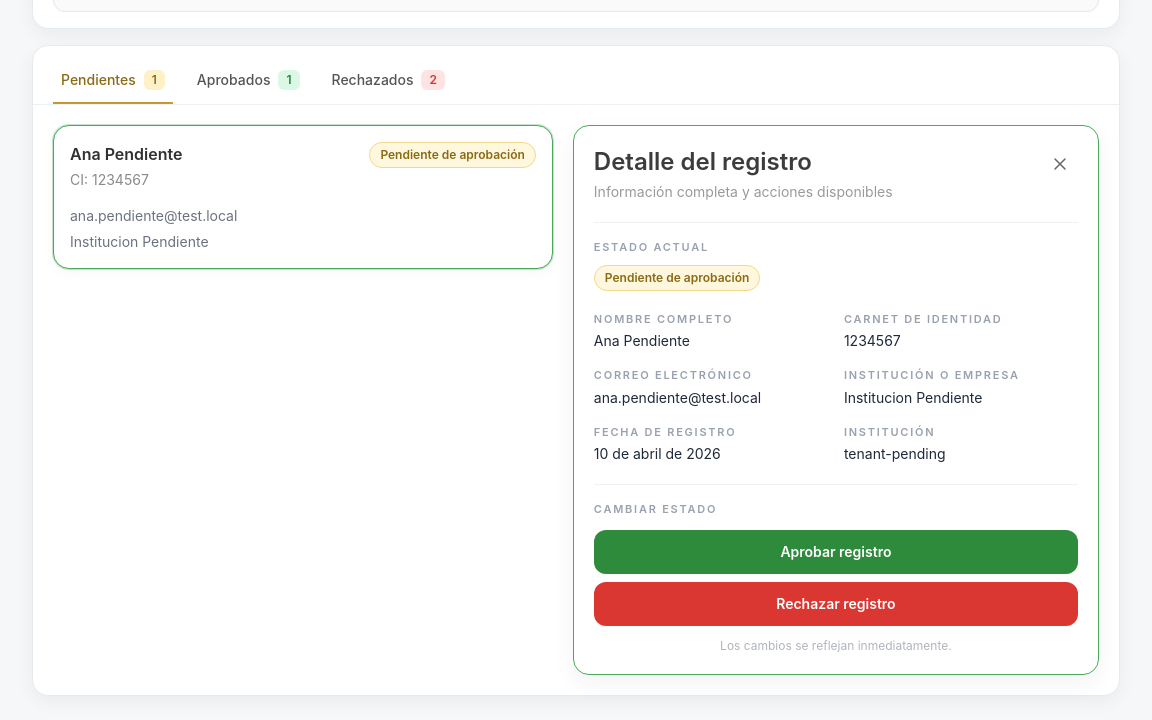
MX-02 | Gestión de instituciones, administradores y wallets | Frontend Admin | Aprobaciones › [MX-02][D-NEW-007][INTEGRACION] rechaza una solicitud de institución nueva sin aprobarla
(page scrolled)
Expected: the button "Ana Pendiente" is shown, left=53, top=125, right=553, bottom=269
Click the button "Rechazar registro": (836, 604) left=594, top=582, right=1078, bottom=626
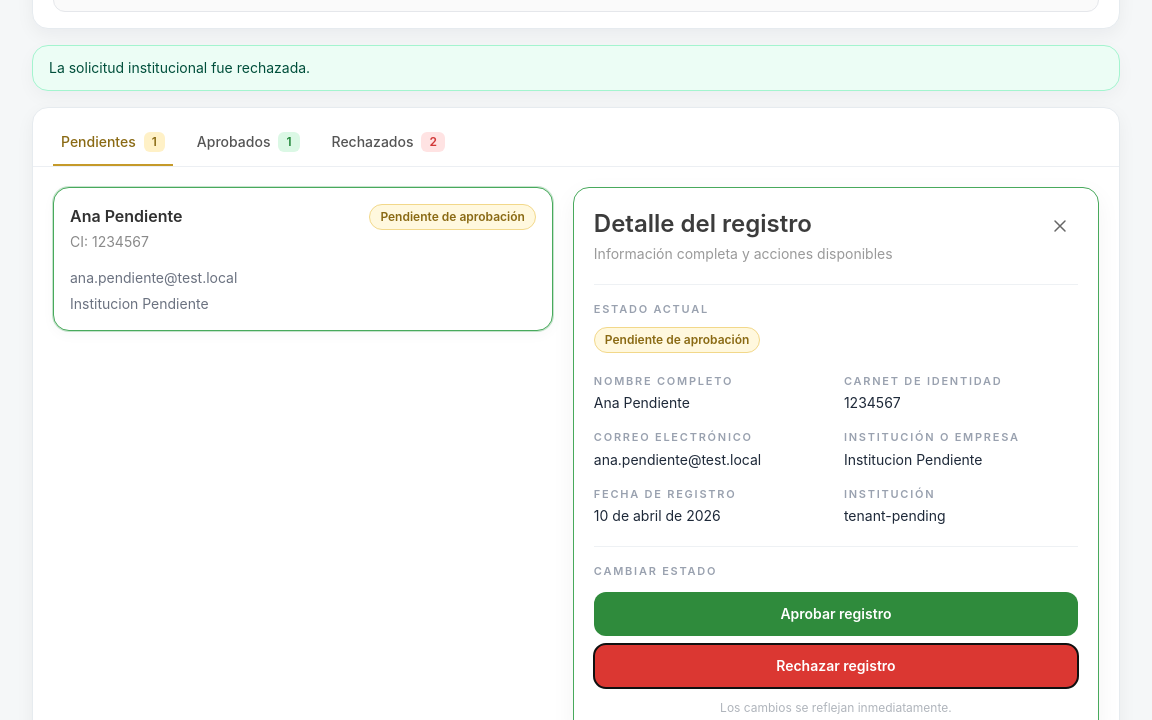
Now the text "La solicitud institucional fue rechazada." is shown, box left=32, top=45, right=1120, bottom=91
